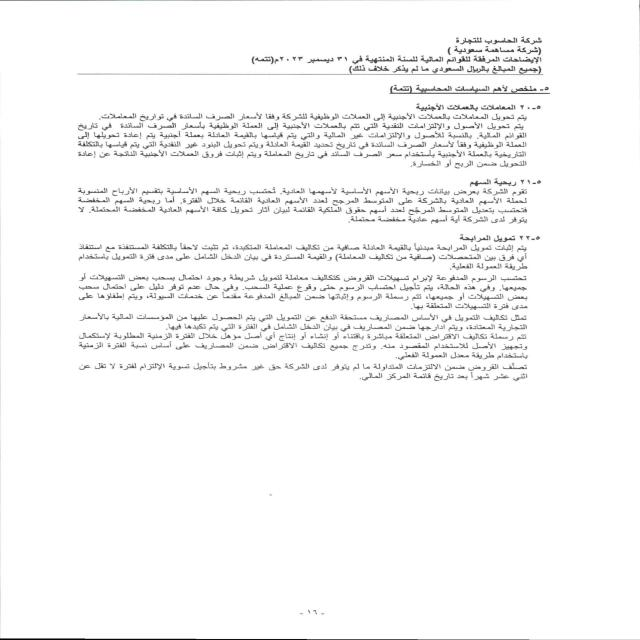notes: (243, 54, 548, 64)
text: (54, 81, 560, 394)
